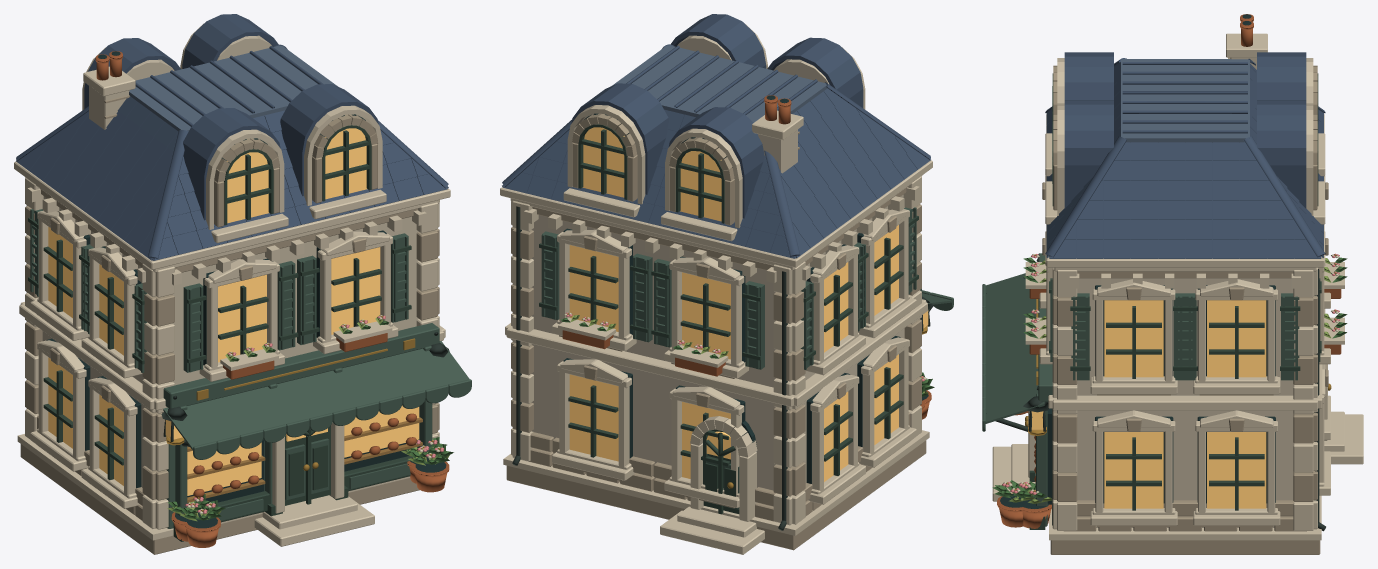
3 views of the same model, side by side, from view 1: azimuth 30°, elevation 25°; view 2: azimuth 150°, elevation 25°; view 3: azimuth 270°, elevation 25° (orthographic).
Visible parts, largest first — view 1: classic_shop_2_geometry, classic_shop_2_geometry ceramic; view 2: classic_shop_2_geometry, classic_shop_2_geometry ceramic; view 3: classic_shop_2_geometry, classic_shop_2_geometry ceramic.
Boxes of the visible parts, bbox=[...] form: classic_shop_2_geometry: bbox=[14, 23, 471, 554]; classic_shop_2_geometry ceramic: bbox=[16, 14, 448, 260]; classic_shop_2_geometry: bbox=[500, 24, 953, 554]; classic_shop_2_geometry ceramic: bbox=[502, 14, 930, 258]; classic_shop_2_geometry: bbox=[982, 14, 1363, 554]; classic_shop_2_geometry ceramic: bbox=[1045, 52, 1325, 258].
Bounding box in the file's own units: 0.9057 × 1.16 × 0.957.
